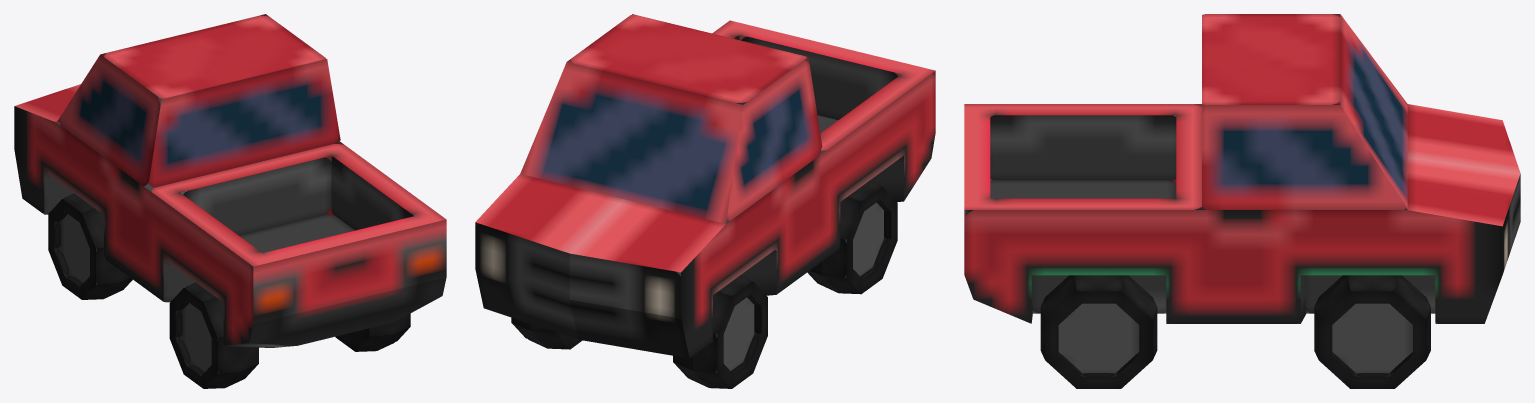
File: Pickup Truck.obj
3 views of the same model, side by side, from view 1: azimuth 30°, elevation 25°; view 2: azimuth 150°, elevation 25°; view 3: azimuth 270°, elevation 25° (orthographic). The views are drawn at different scales.
Visible parts, largest first — view 1: cuboid, r_l, f_l, r_r; view 2: cuboid, r_l, f_l, f_r; view 3: cuboid, r_r, f_r.
Part boxes in pixels (x1=…): cuboid: x1=14, y1=14, x2=446, y2=347; r_l: x1=169, y1=282, x2=258, y2=388; f_l: x1=48, y1=193, x2=132, y2=299; r_r: x1=335, y1=313, x2=410, y2=351; cuboid: x1=475, y1=14, x2=935, y2=358; r_l: x1=807, y1=180, x2=897, y2=294; f_l: x1=673, y1=275, x2=767, y2=388; f_r: x1=511, y1=317, x2=582, y2=349; cuboid: x1=964, y1=14, x2=1520, y2=323; r_r: x1=1040, y1=275, x2=1157, y2=388; f_r: x1=1314, y1=275, x2=1430, y2=388.
Bounding box in the file's own units: 0.875 × 1.08 × 1.94.
Materials: 1 (1 with a texture image).
